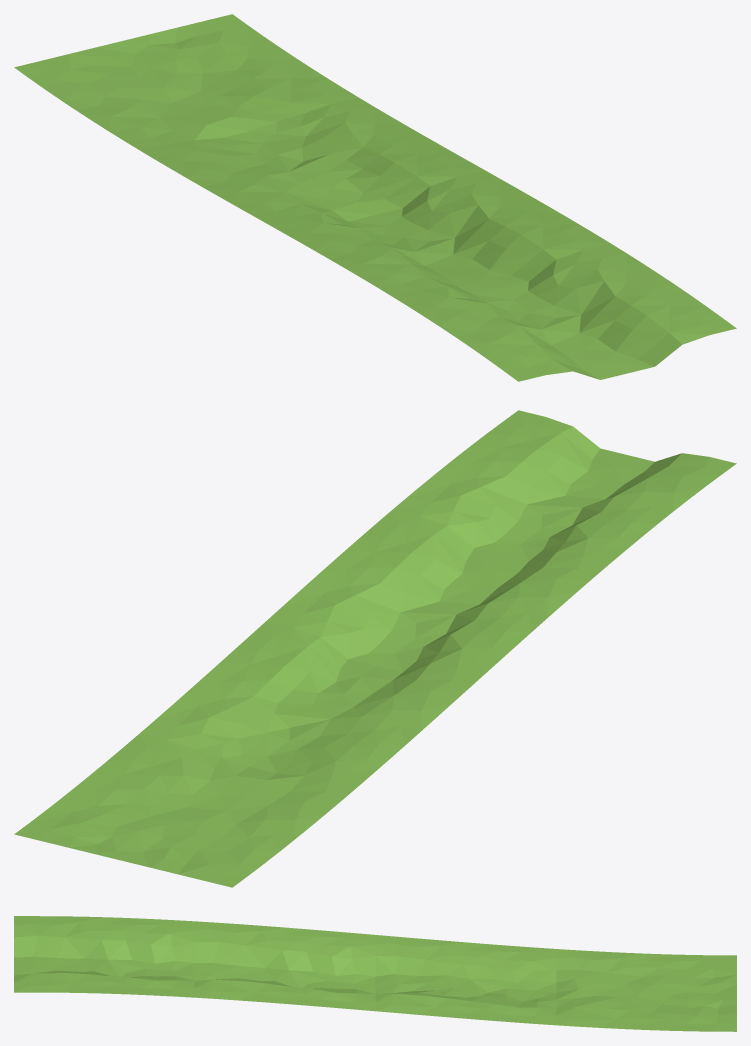
Rendered from MT_River_End_S_b_01.fbx.
The picture shows the model from 3 angles, top to bottom: view 1: azimuth 30°, elevation 25°; view 2: azimuth 150°, elevation 25°; view 3: azimuth 270°, elevation 25°; orthographic projection. The views are drawn at different scales.
Parts seen in each view (by area): view 1: MT_River_End_S_b_01; view 2: MT_River_End_S_b_01; view 3: MT_River_End_S_b_01.
Part boxes in pixels (x1,y1,x2,y2): MT_River_End_S_b_01: (14,14,736,381); MT_River_End_S_b_01: (14,410,736,887); MT_River_End_S_b_01: (14,916,736,1031).
Size of the model in its own units: 25 by 6.32 by 100.
